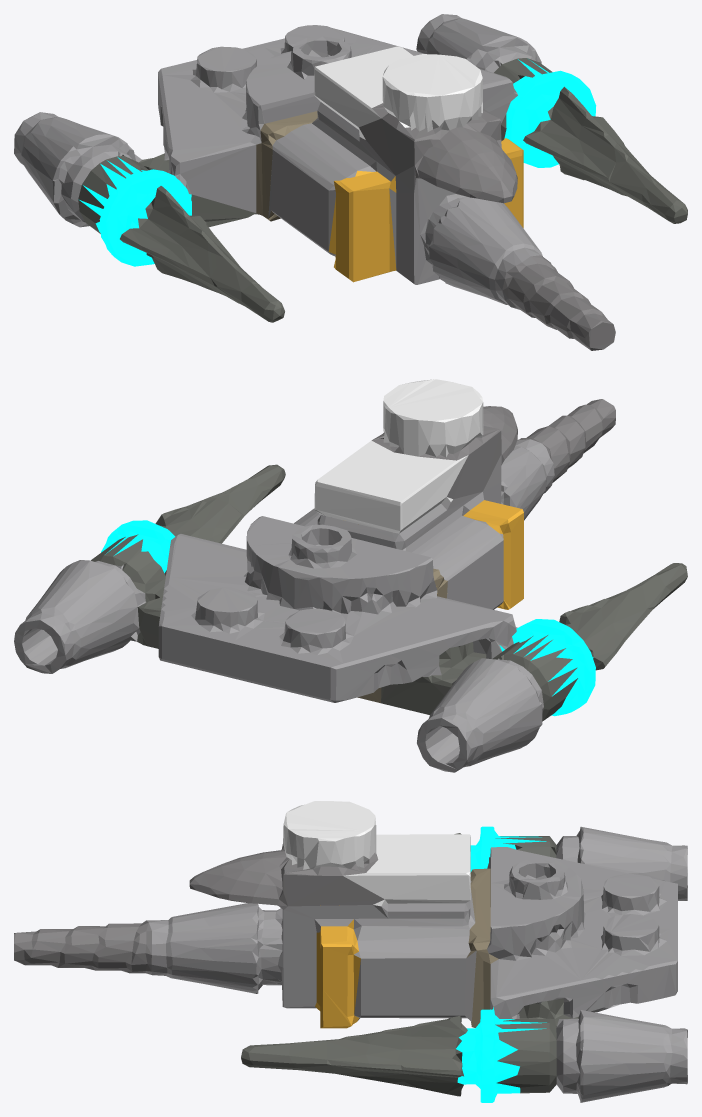
Rendered from nano-n1-planet-v2.glb.
3 views of the same model, one above another, from view 1: azimuth 30°, elevation 25°; view 2: azimuth 150°, elevation 25°; view 3: azimuth 270°, elevation 25° (orthographic). The views are drawn at different scales.
Parts seen in each view (by area): view 1: nano-n1; view 2: nano-n1; view 3: nano-n1.
Part boxes in pixels (x1,y1,x2,y2): nano-n1: (14,14,687,350); nano-n1: (14,379,687,772); nano-n1: (14,801,687,1102).
Bounding box in the file's own units: 1.12 × 0.4393 × 1.43.
